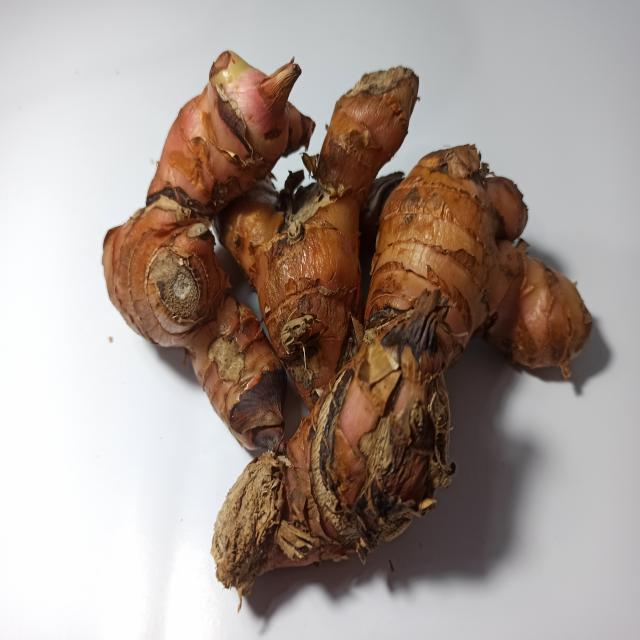ginger: (108, 45, 593, 588)
